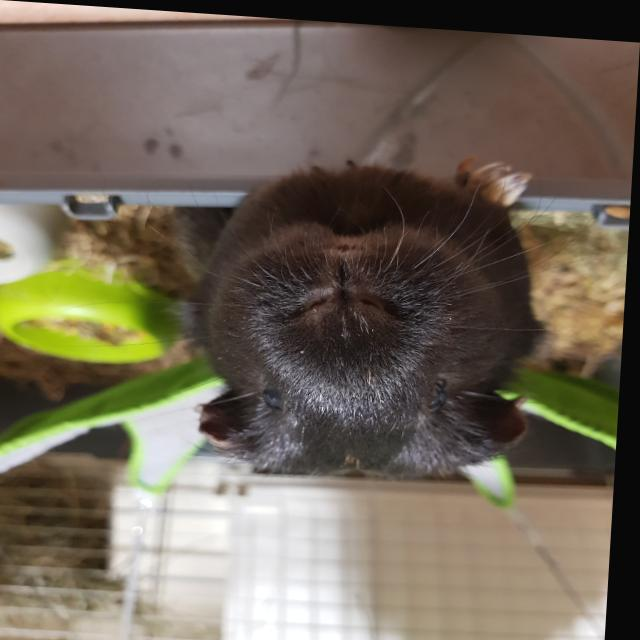guinea pig: (191, 135, 579, 486)
